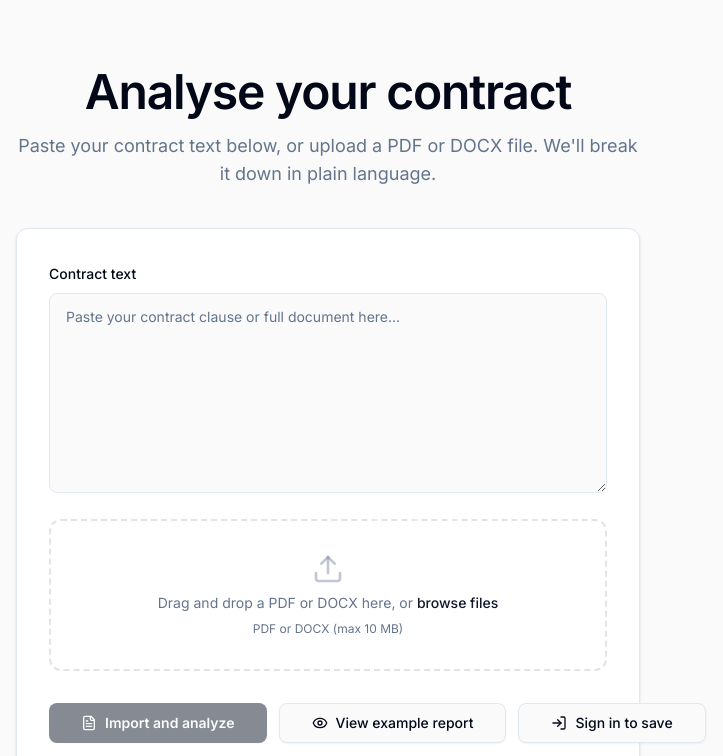
it: Analyze page — truncated document gating › enables generate button after selecting valid number of sections
In the text box with placeholder "Paste your contract clause or full document here...": (328, 393) [49, 293, 607, 493], type "some contract text"
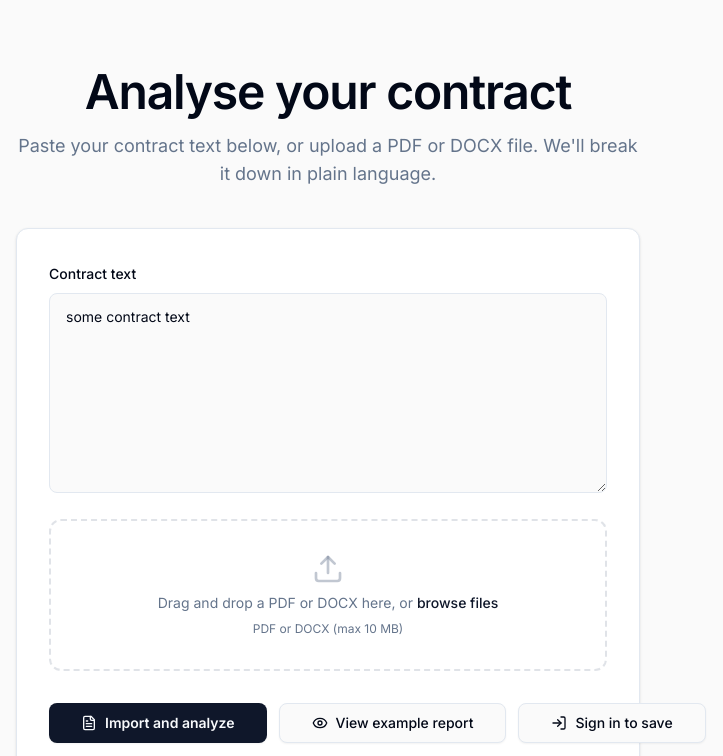
Click the button "Import and analyze": (158, 723) [49, 703, 266, 743]
(page scrolled)
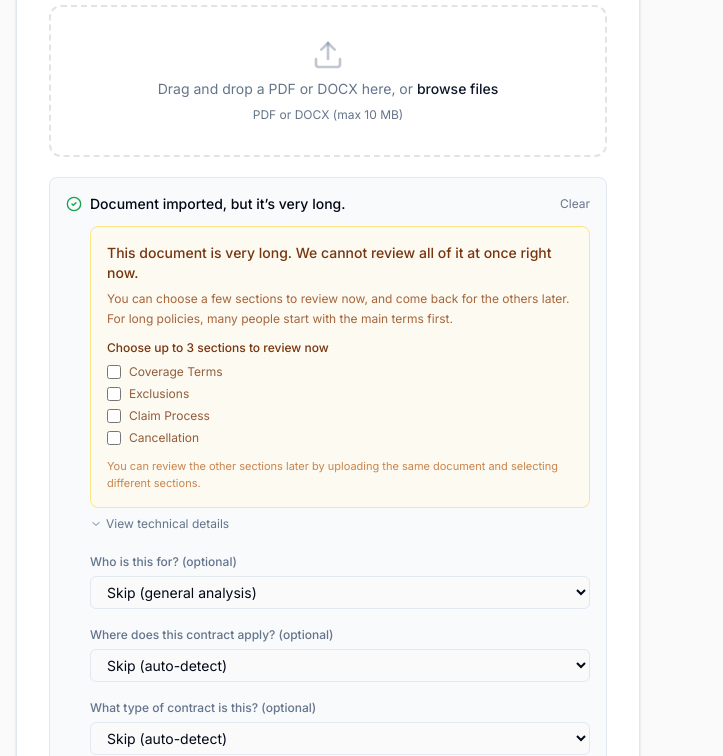
Result: the text "Document imported, but it’s very long." is shown at [90, 194, 346, 214]
Click the checkbox labelled "Coverage Terms": (114, 372) [107, 365, 121, 379]
(page scrolled)
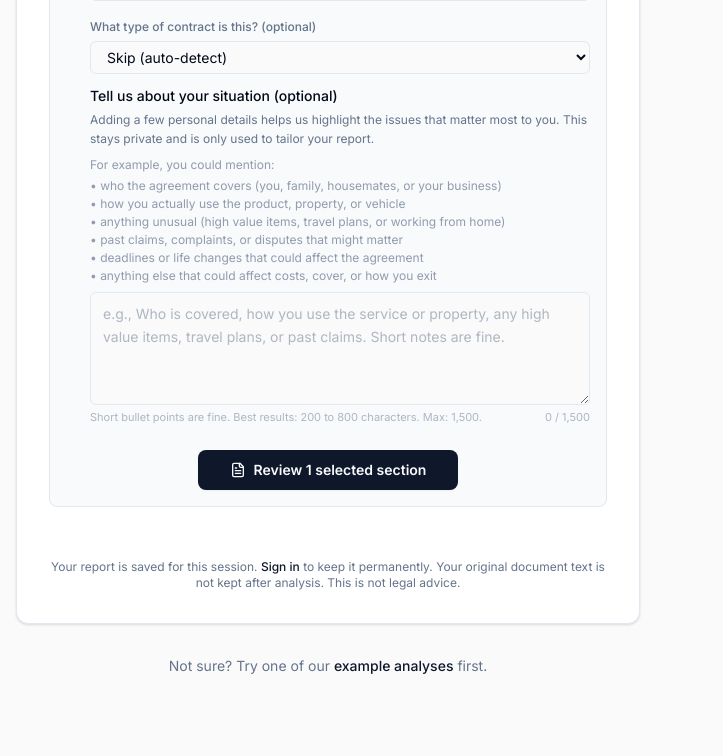
Result: the button with test id "generate-button" is enabled at [198, 450, 458, 490]
